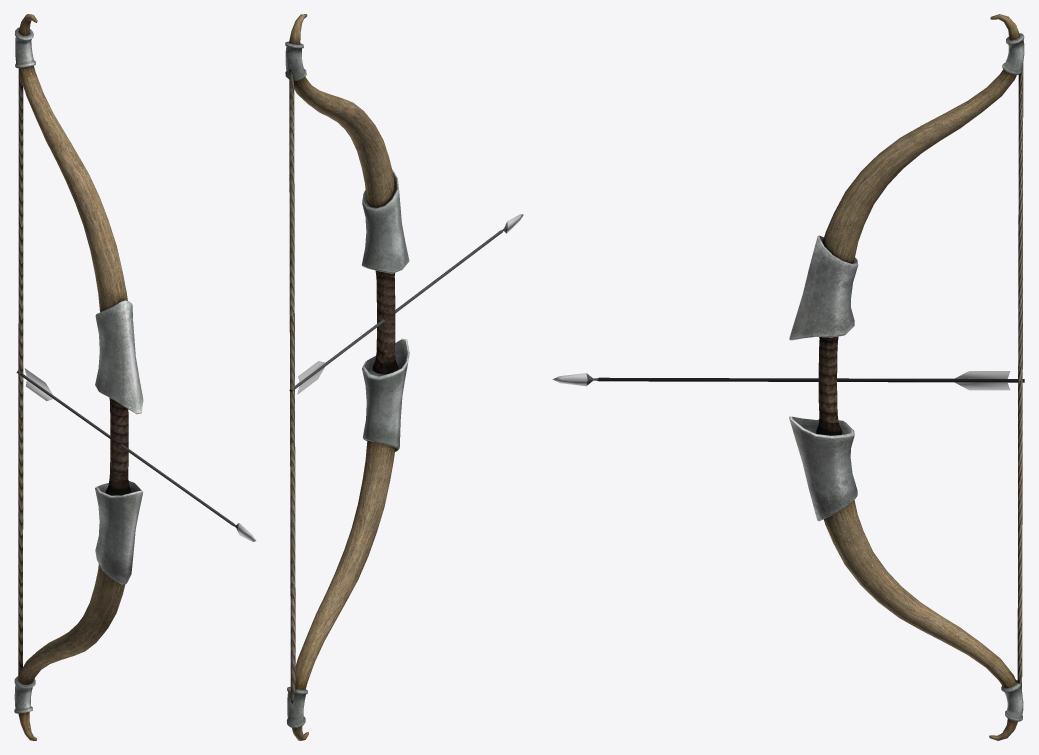
File: Bow&arrow.obj
3 views of the same model, side by side, from view 1: azimuth 30°, elevation 25°; view 2: azimuth 150°, elevation 25°; view 3: azimuth 270°, elevation 25° (orthographic).
Parts seen in each view (by area): view 1: Circle.002_Circle.004, Ya_Cube.013; view 2: Circle.002_Circle.004, Ya_Cube.013; view 3: Circle.002_Circle.004, Ya_Cube.013.
Part boxes in pixels (left/top/right/bottom): Circle.002_Circle.004: left=14, top=14, right=143, bottom=740; Ya_Cube.013: left=16, top=368, right=256, bottom=541; Circle.002_Circle.004: left=285, top=14, right=409, bottom=740; Ya_Cube.013: left=289, top=214, right=523, bottom=394; Circle.002_Circle.004: left=789, top=14, right=1024, bottom=740; Ya_Cube.013: left=552, top=371, right=1024, bottom=390.
Size of the model in its own units: 0.1552 by 2.86 by 1.69.
